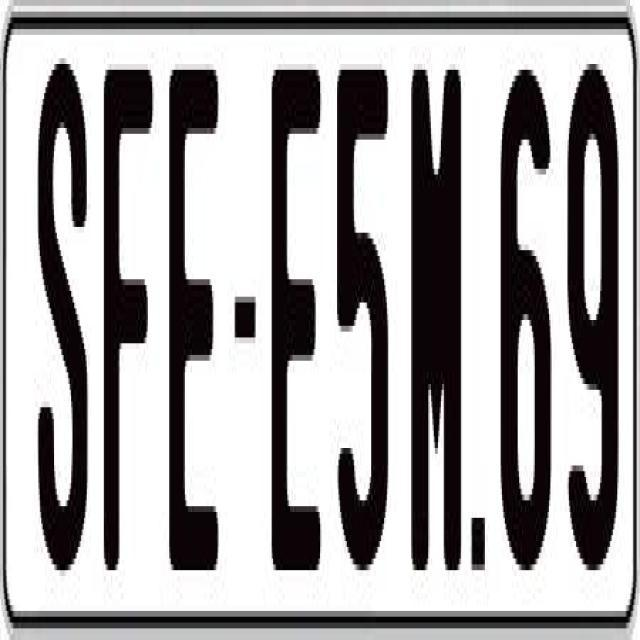5: (337, 70, 388, 594)
6: (499, 52, 553, 582)
9: (564, 58, 616, 570)
E: (164, 70, 220, 594), (270, 52, 327, 553)
F: (104, 58, 160, 559)
M: (410, 58, 460, 576)
S: (34, 47, 85, 564)
